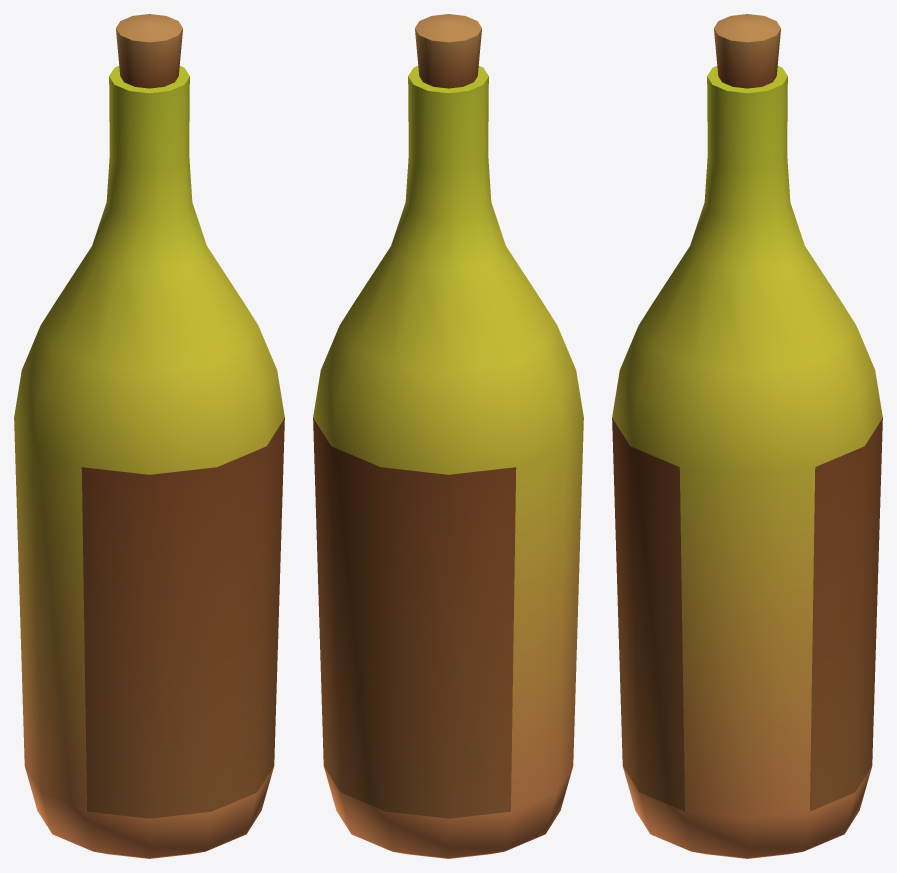
Rendered from Bottle_02.glb.
3 renders of one model, left to right at view 1: azimuth 30°, elevation 25°; view 2: azimuth 150°, elevation 25°; view 3: azimuth 270°, elevation 25°, orthographic.
Parts seen in each view (by area): view 1: Bottle_02; view 2: Bottle_02; view 3: Bottle_02.
Part boxes in pixels (left/top/right/bottom): Bottle_02: left=14, top=14, right=284, bottom=858; Bottle_02: left=313, top=14, right=583, bottom=858; Bottle_02: left=612, top=14, right=882, bottom=858.
Size of the model in its own units: 0.2296 by 0.7499 by 0.2296.
1 material, 1 textured.
